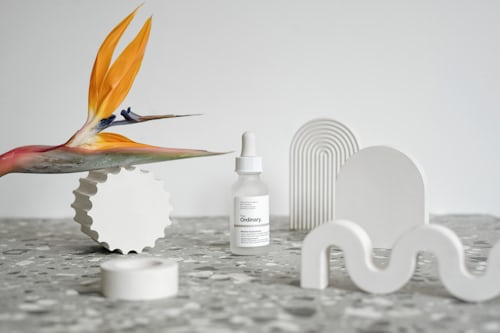Bottle: (221, 129, 282, 259)
